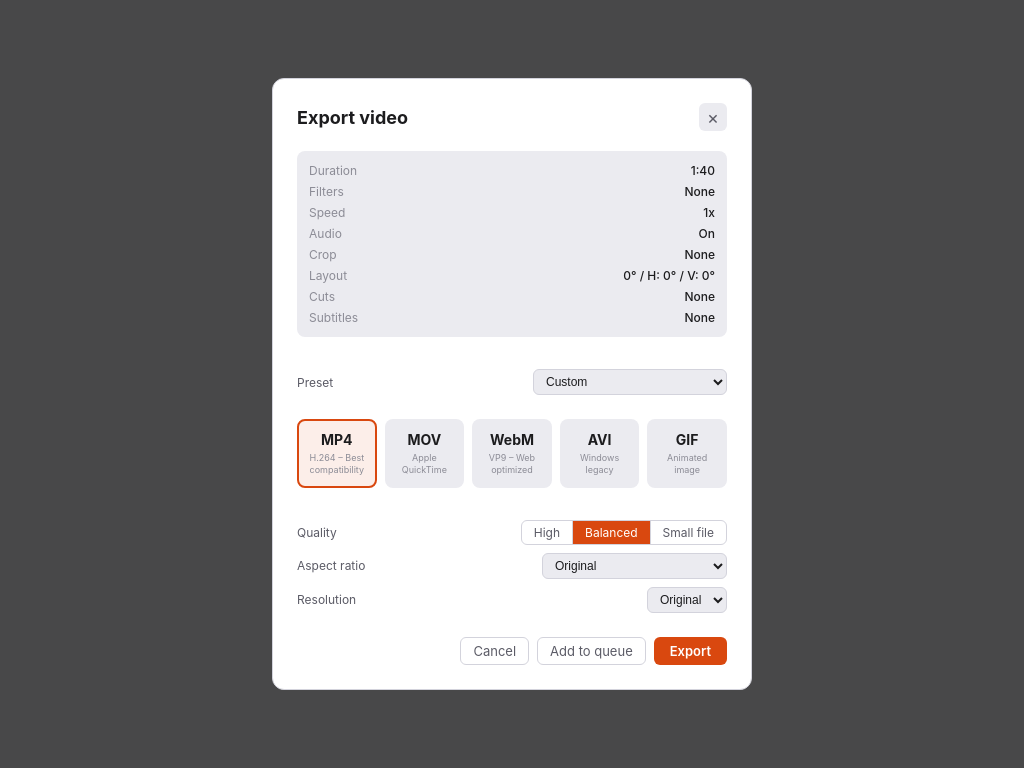
Scenario: ExportModal — fixes › while an export runs › locks the format picker
Click the button "Export": click(690, 651) [654,637,727,665]
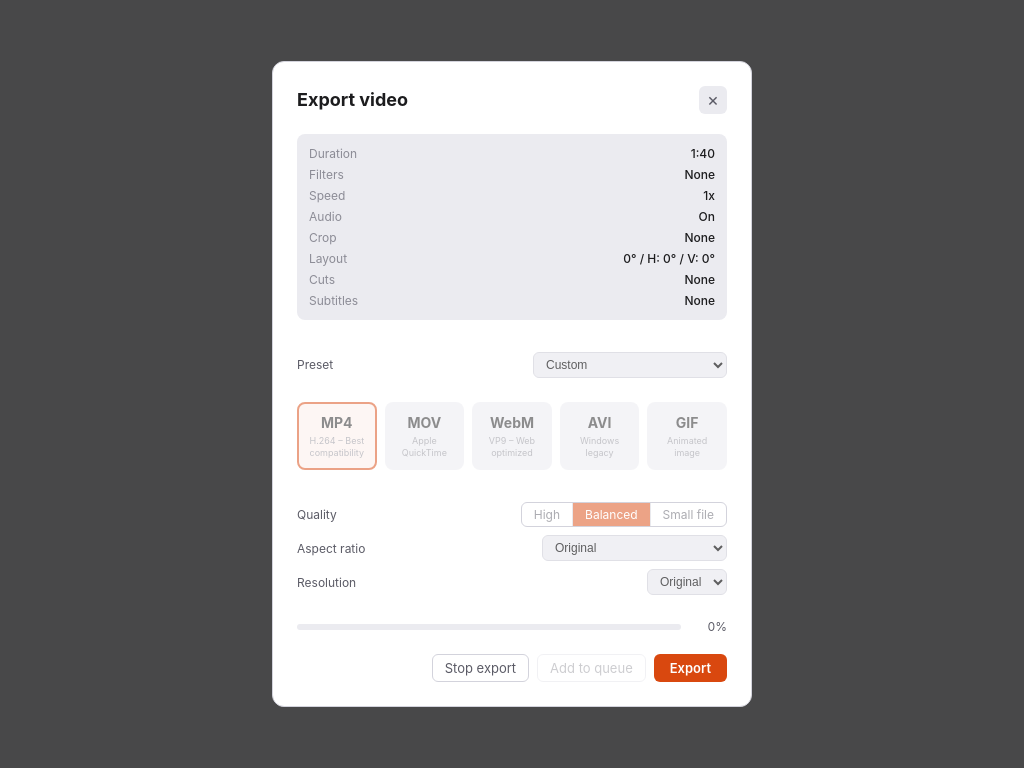
Now the button with class "format-card" showing "MP4 H.264 – Best compatibility" is disabled, box [297,402,377,470]
